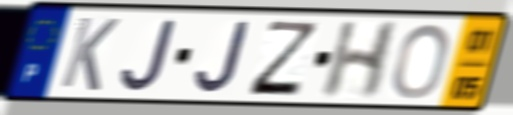H: (317, 19, 404, 101)
J: (118, 16, 181, 94), (193, 19, 252, 96)
K: (56, 14, 123, 94)
O: (390, 21, 453, 101)
Z: (244, 19, 322, 99)
